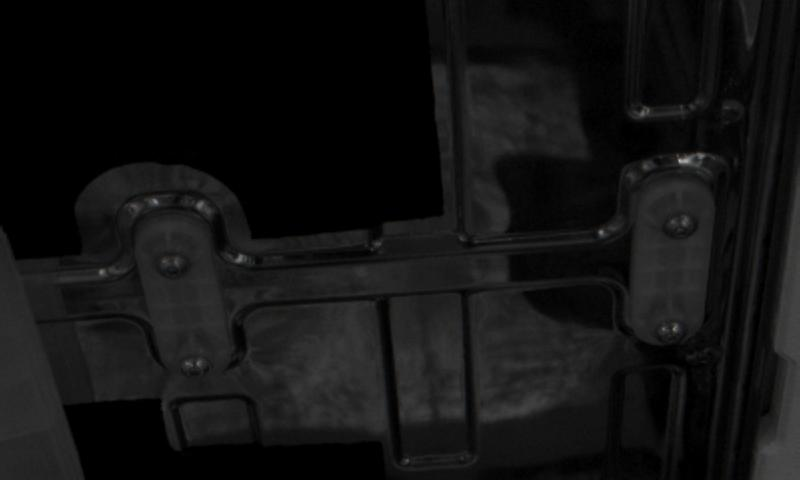vida-ok: (151, 241, 197, 285), (661, 206, 707, 249), (652, 312, 697, 352), (173, 348, 218, 387)
